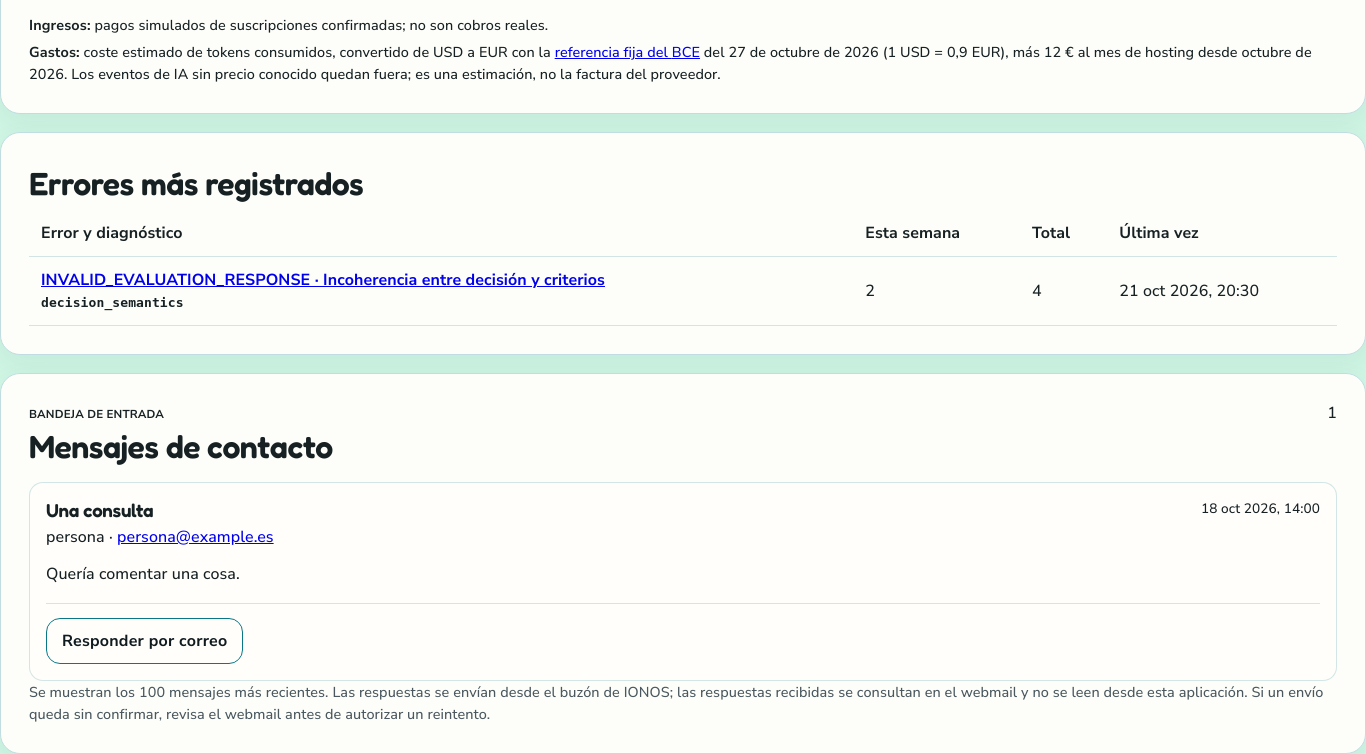
AdminDashboard › sends an admin reply without accepting a recipient from the browser
This screenshot has width=1366, height=754.
(page scrolled)
Click the button "Responder por correo" at (145, 641), box left=46, top=618, right=243, bottom=664
(page scrolled)
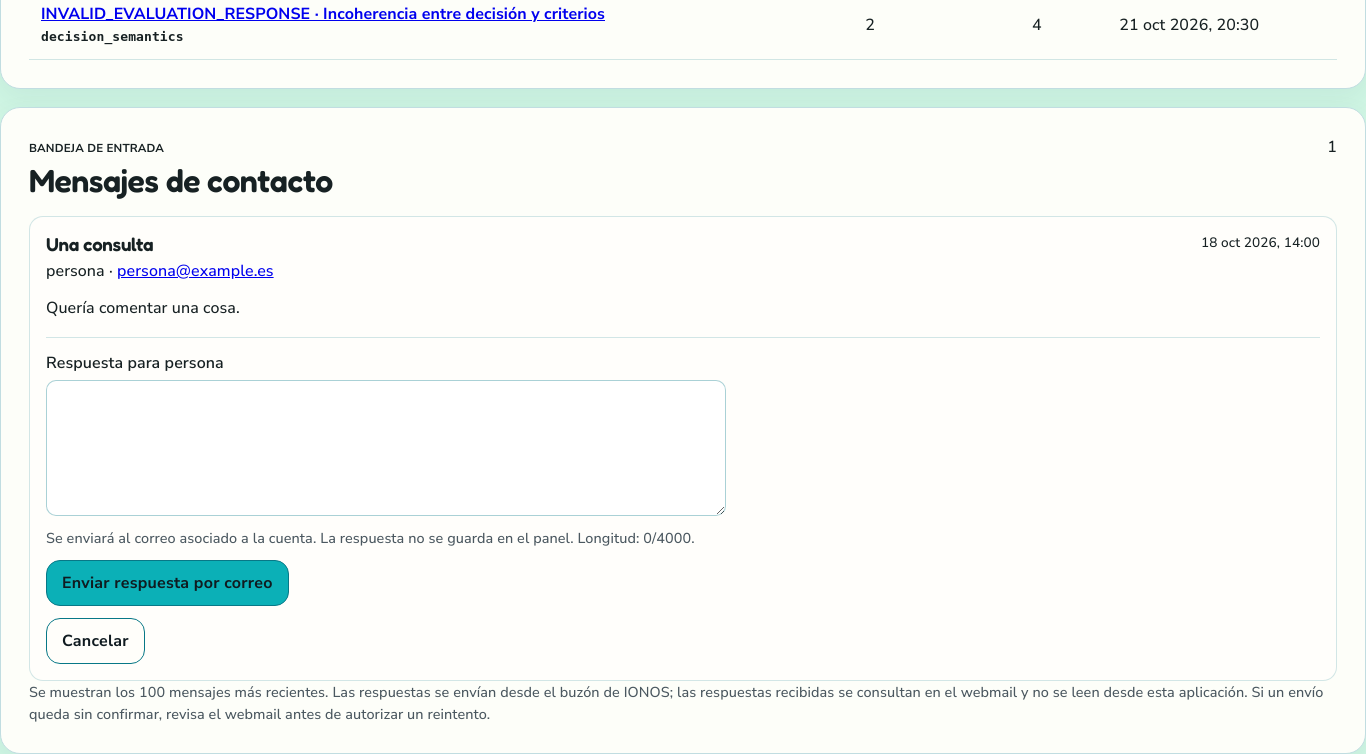
Type "Gracias por escribirnos. Te respondemos pronto." into the text box labelled "Respuesta para persona" at (386, 448), box left=46, top=380, right=726, bottom=516
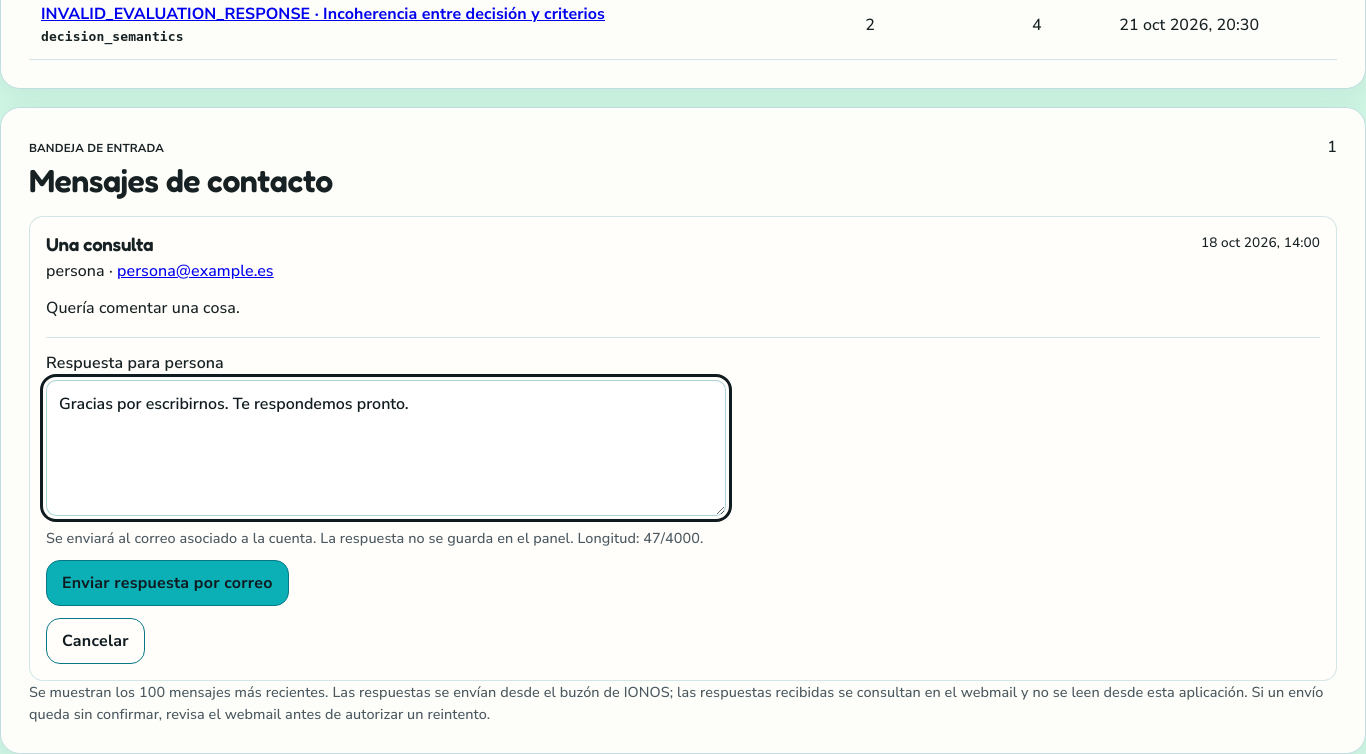
Click the button "Enviar respuesta por correo" at (167, 583), box left=46, top=560, right=289, bottom=606
(page scrolled)
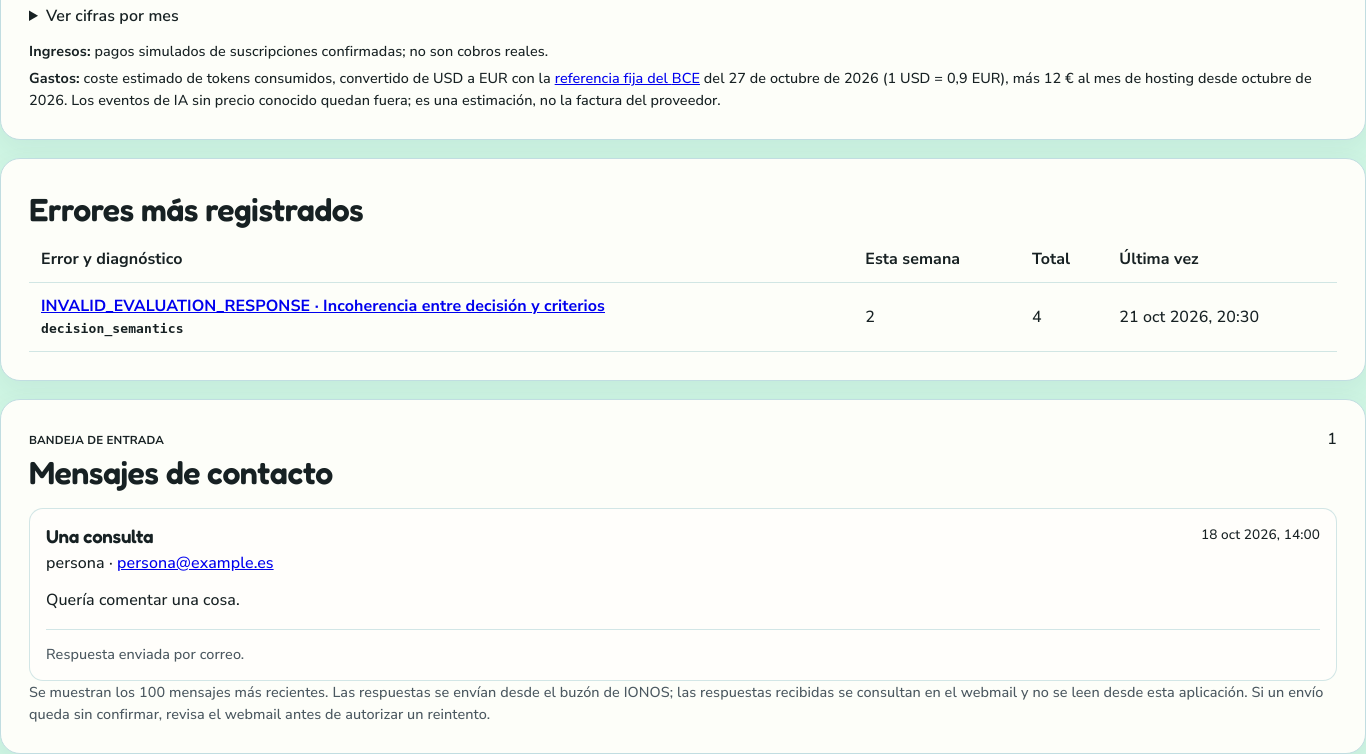
Result: the message reads "Respuesta enviada por correo." at left=46, top=644, right=244, bottom=664
